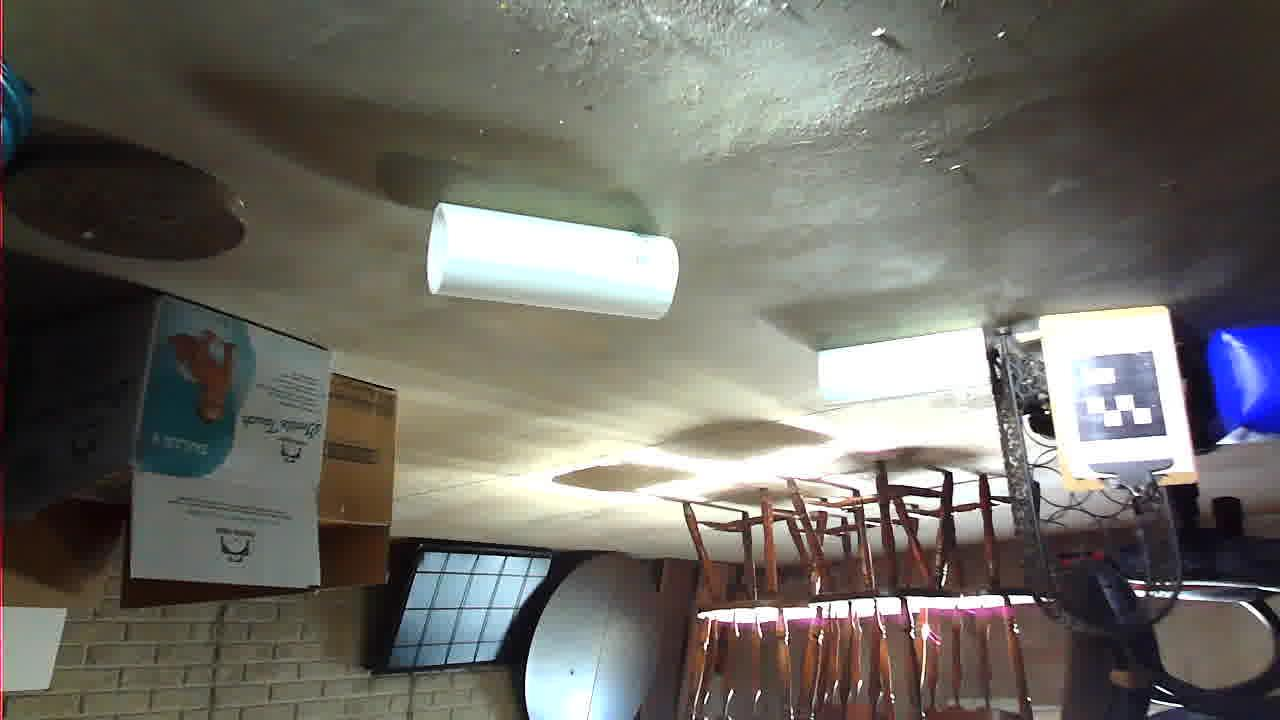coral: (601, 400, 853, 515)
